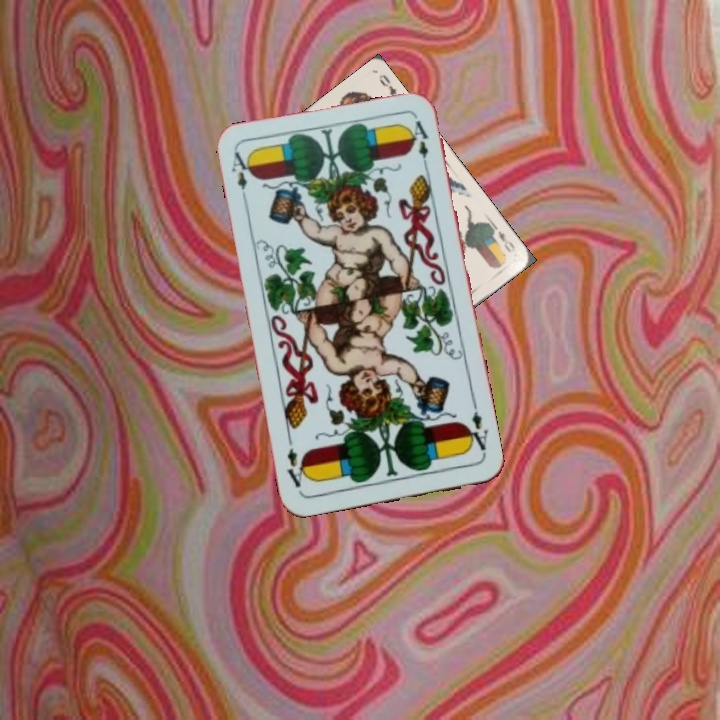EA: (462, 399, 491, 458), (227, 147, 255, 206)
EO: (488, 221, 518, 255)
